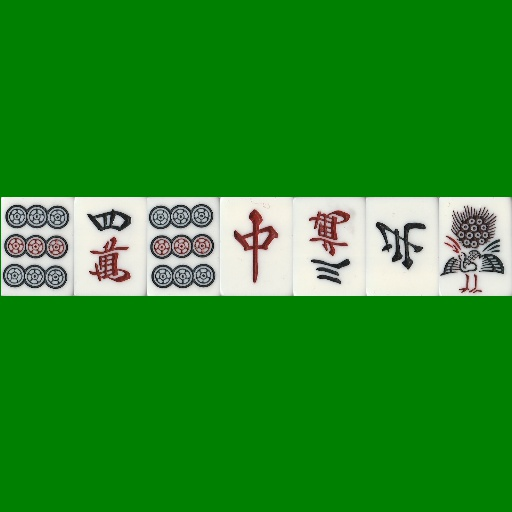1s: (439, 197, 512, 296)
3m: (293, 197, 366, 296)
4m: (74, 197, 147, 296)
9p: (1, 197, 74, 296), (147, 197, 220, 296)
north: (366, 197, 439, 296)
tyun: (220, 197, 293, 296)
